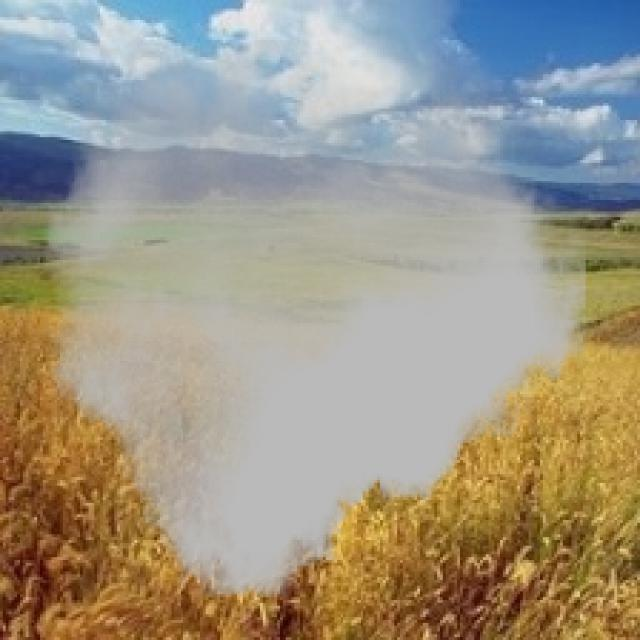smoke: (43, 40, 586, 597)
